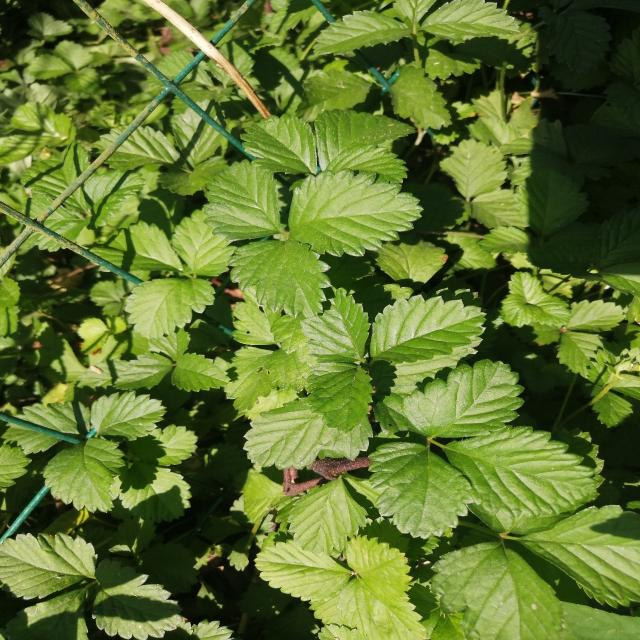Mock_strawberry: (380, 363, 566, 524), (209, 162, 412, 302)
